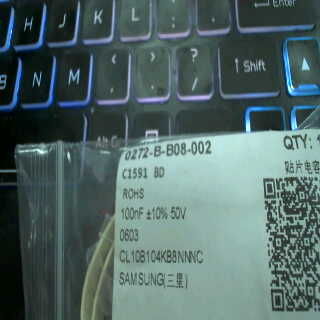100nF: (119, 205, 147, 225)
